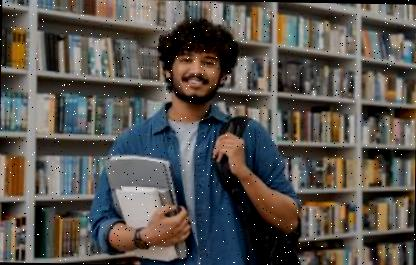person: (82, 11, 310, 265)
